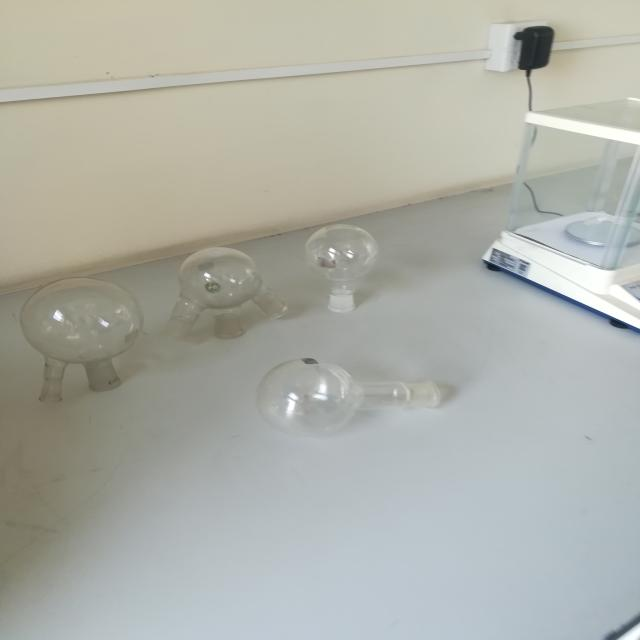Round_Bottom_Flask_Borosilicate_Glass_1_Neck: (230, 337, 462, 452), (291, 207, 406, 331)
Round_Bottom_Flask_Borosilicate_Glass_2_Neck: (7, 255, 161, 420)
Round_Bottom_Flask_Borosilicate_Glass_3_Neck: (153, 228, 306, 356)
